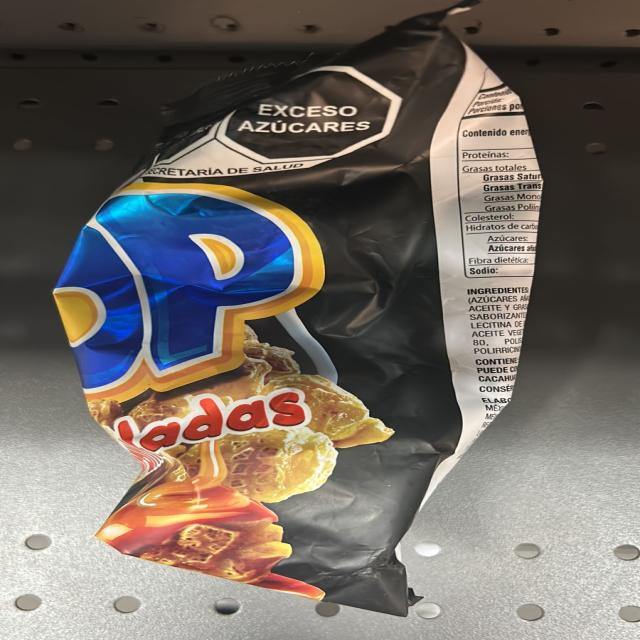popKarameladas: (103, 71, 463, 602)
